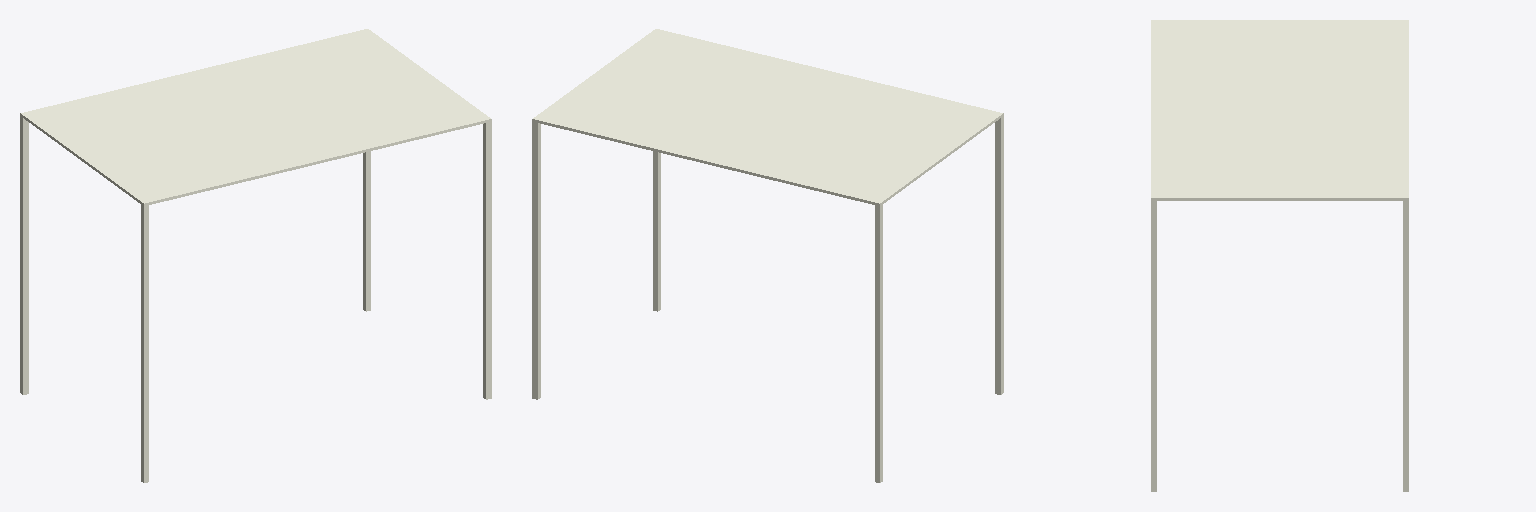
URDF robot description (table.urdf):
<?xml version="1.0" ?>
<robot name="table.urdf">
  <material name="Black">
    <color rgba="0.0 0.0 0.0 1.0"/>
  </material>
  <material name="Blue">
    <color rgba="0.0 0.0 0.8 1.0"/>
  </material>
  <material name="Green">
    <color rgba="0.0 0.8 0.0 1.0"/>
  </material>
  <material name="Grey">
    <color rgba="0.5 0.5 0.5 1.0"/>
  </material>
  <material name="Light_Grey">
    <color rgba="0.8 0.8 0.8 1.0"/>
  </material>
  <material name="Ivory">
    <color rgba="1.0 1.0 0.94 1.0"/>
  </material>
  <material name="Orange">
    <color rgba="1.0 0.423529411765 0.0392156862745 1.0"/>
  </material>
  <material name="Brown">
    <color rgba="0.870588235294 0.811764705882 0.764705882353 1.0"/>
  </material>
  <material name="Red">
    <color rgba="0.8 0.0 0.0 1.0"/>
  </material>
  <material name="White">
    <color rgba="1.0 1.0 1.0 1.0"/>
  </material>
  <link name="world">
  </link>
  <joint name="world2base" type="fixed">
    <parent link="world"/>
    <child link="baseLink"/>
    <origin rpy="0 0 0" xyz="0.0 0.0 0.0"/> 
  </joint>
  <link name="baseLink">
    <contact>
      <lateral_friction value="1.0"/>
    </contact>
    <inertial>
      <origin rpy="0 0 0" xyz="0 0 0"/>
       <mass value=".0"/>
       <inertia ixx="1" ixy="0" ixz="0" iyy="1" iyz="0" izz="1"/>
    </inertial>
    <visual>
      <origin rpy="0 0 0" xyz="0 0 0"/>
      <geometry>
        <mesh filename="simple_table_large.obj" scale="1.0 1.0 1.0"/>
      </geometry>
      <material name="Ivory"/>
    </visual>
    <collision>
      <origin rpy="0 0 0" xyz="0 0 0"/>
      <geometry>
        <mesh filename="simple_table_large.obj" scale="1.0 1.0 1.0"/>
      </geometry>
    </collision>
  </link>
</robot>

--- Render facts (derived) ---
3 views of the same robot in one strip: view 1: azimuth 30°, elevation 25°; view 2: azimuth 150°, elevation 25°; view 3: azimuth 270°, elevation 25° (orthographic).
Robot: table.urdf — 2 links, 1 joints (1 fixed); root link world; default pose: every joint at zero.
Visible links, largest first — view 1: baseLink; view 2: baseLink; view 3: baseLink.
Boxes of the visible links, <box> form: baseLink: <box>20,29,491,482</box>; baseLink: <box>532,29,1003,482</box>; baseLink: <box>1151,20,1408,491</box>.
Bounding box of the posed robot: 1.3 × 0.8 × 1 m (x, y, z).
Meshes: 1 distinct files referenced, 1 mesh visuals loaded (1 OBJ).